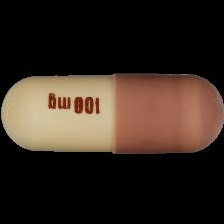43063-529: (0, 0, 224, 224)
